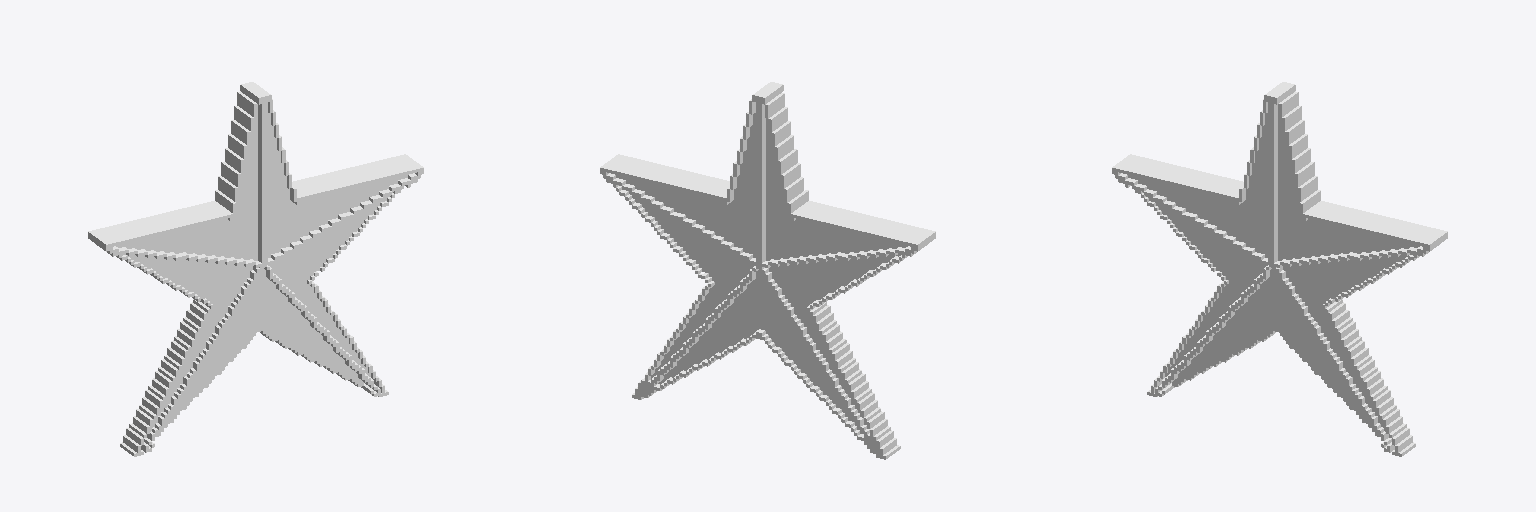
File: estrellaDemana.obj
3 renders of one model, left to right at view 1: azimuth 30°, elevation 25°; view 2: azimuth 150°, elevation 25°; view 3: azimuth 330°, elevation 25°, orthographic.
Parts seen in each view (by area): view 1: object 1; view 2: object 1; view 3: object 1.
Part boxes in pixels (x1,y1,x2,y2): object 1: (88, 82, 423, 456); object 1: (600, 82, 935, 459); object 1: (1112, 82, 1447, 456).
Size of the model in its own units: 10 by 10 by 1.